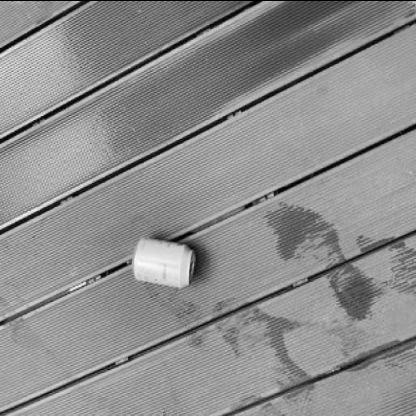alumunium_can: (132, 236, 197, 290)
